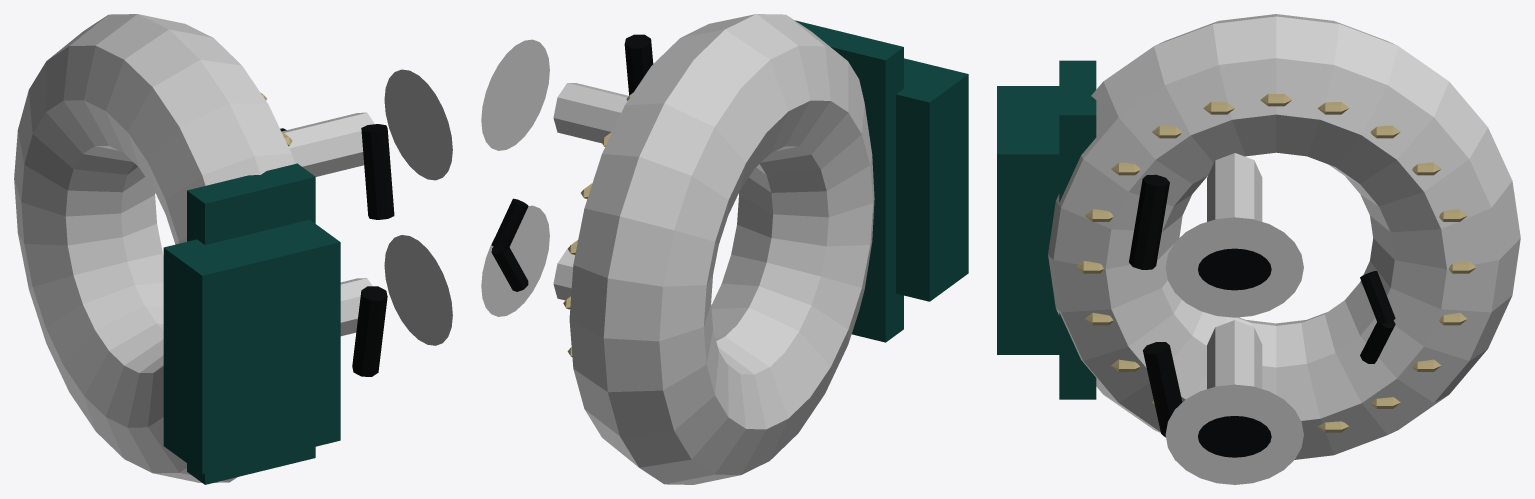
Rendered from Resident0Head.obj.
3 views of the same model, side by side, from view 1: azimuth 30°, elevation 25°; view 2: azimuth 150°, elevation 25°; view 3: azimuth 270°, elevation 25° (orthographic).
Visible parts, largest first — view 1: Resident0Head; view 2: Resident0Head; view 3: Resident0Head.
Boxes of the visible parts, left/top/right/bottom form: Resident0Head: left=14, top=14, right=452, bottom=484; Resident0Head: left=481, top=14, right=968, bottom=484; Resident0Head: left=997, top=14, right=1520, bottom=484.
Size of the model in its own units: 85.5 by 106 by 114.
